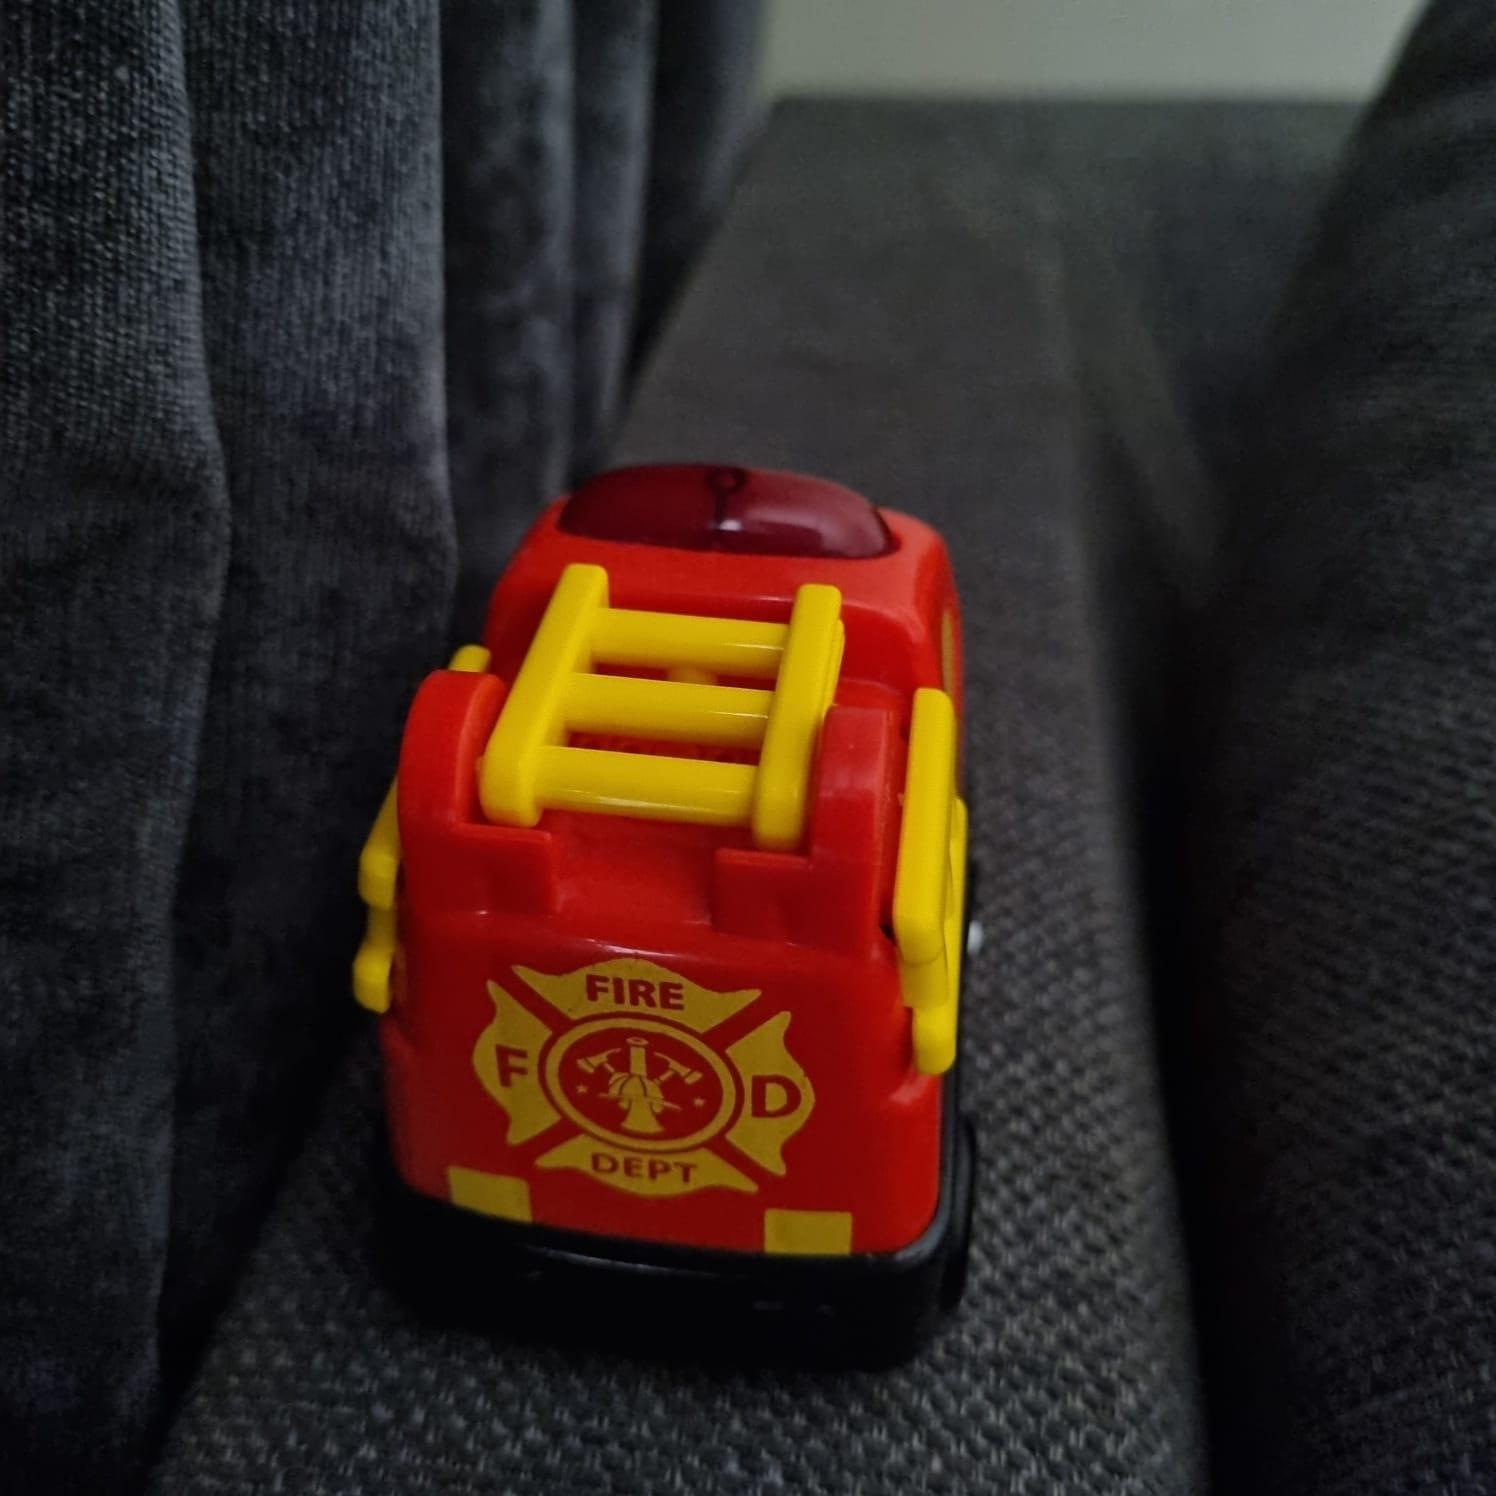firetruck_off: (351, 453, 989, 1374)
